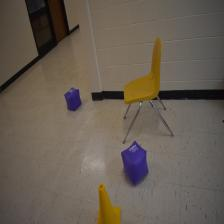cone: (97, 183, 121, 224)
cube: (121, 140, 149, 186), (64, 88, 82, 111)
